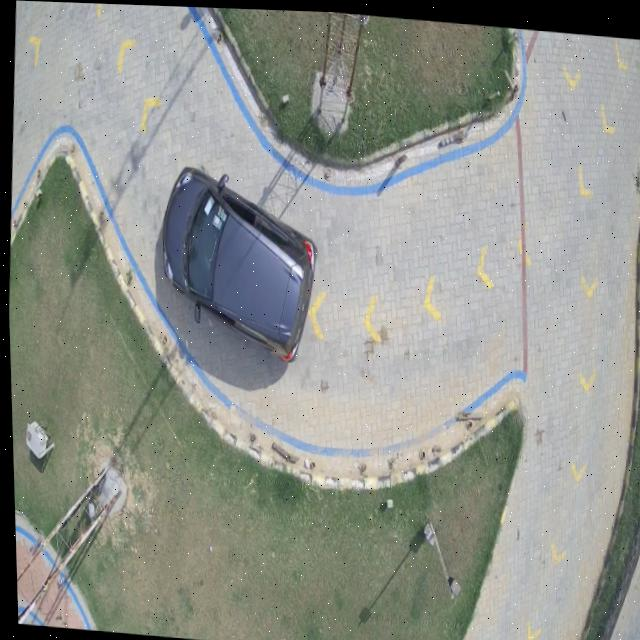car: (161, 167, 315, 359)
